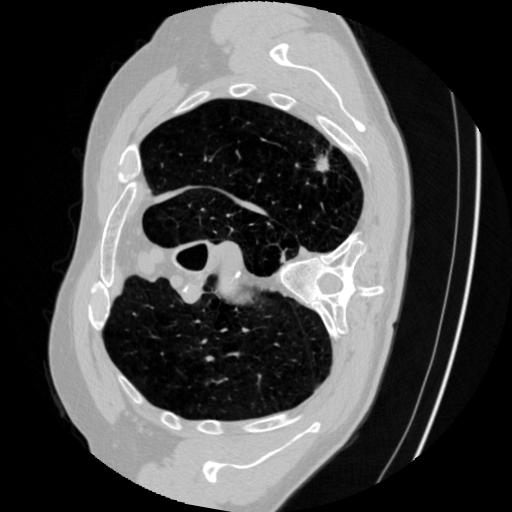nodule: (308, 144, 340, 176)
